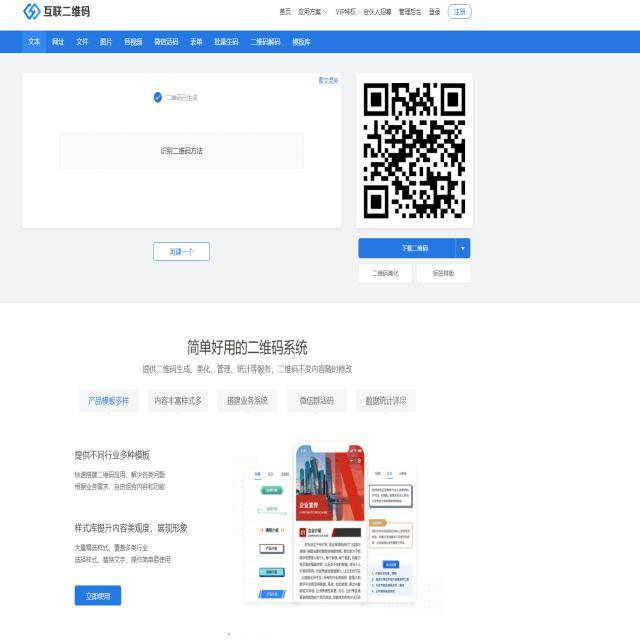qr_code: (364, 82, 467, 219)
